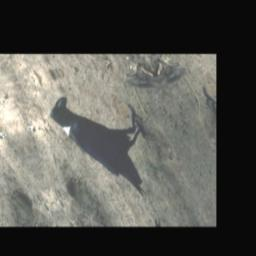Crow: (41, 83, 178, 209)
